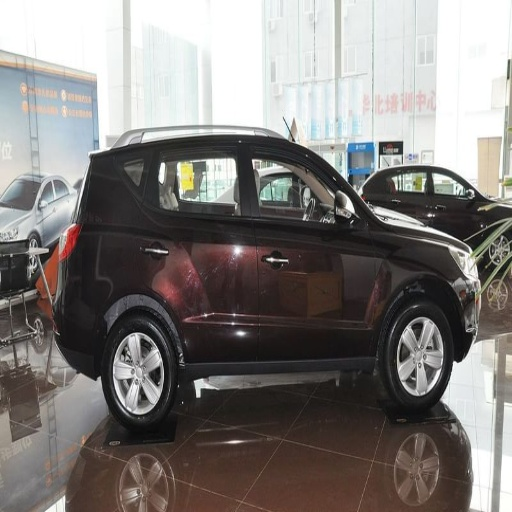back_right_door: (139, 135, 258, 359)
front_right_door: (246, 136, 376, 354)
